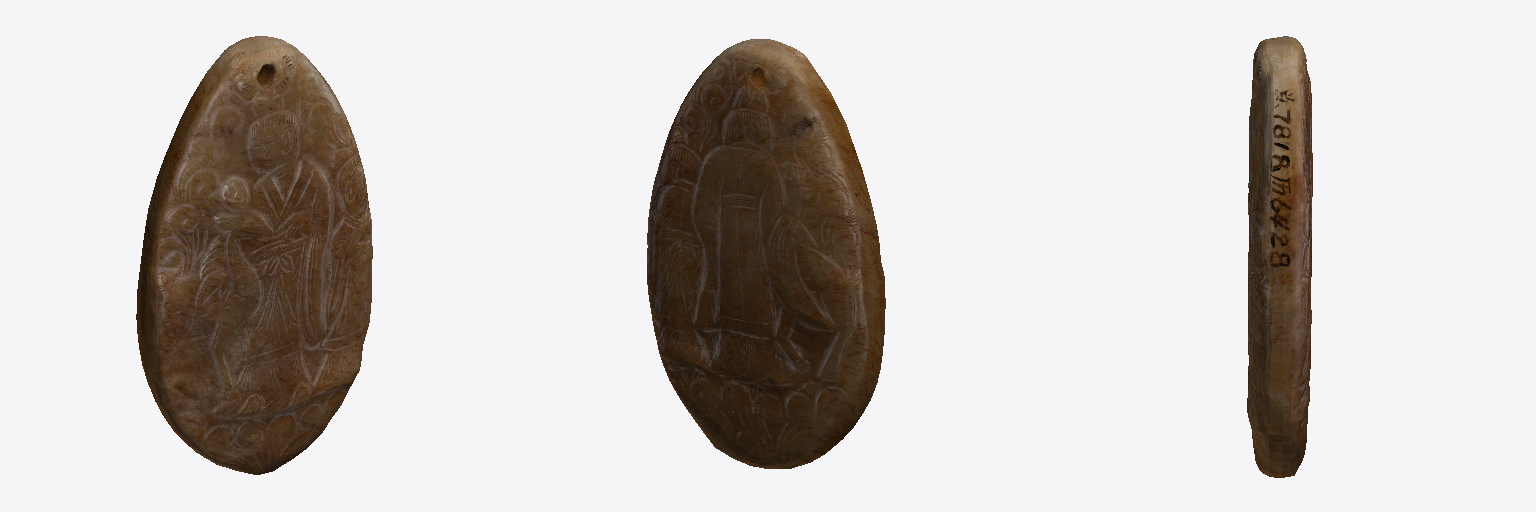
The picture shows the model from 3 angles: view 1: azimuth 30°, elevation 25°; view 2: azimuth 150°, elevation 25°; view 3: azimuth 270°, elevation 25°; orthographic projection.
Visible parts, largest first — view 1: Group1; view 2: Group1; view 3: Group1.
Boxes of the visible parts, x1=… form: Group1: x1=136, y1=36, x2=372, y2=474; Group1: x1=647, y1=39, x2=885, y2=468; Group1: x1=1247, y1=36, x2=1312, y2=477.
Size of the model in its own units: 0.426 by 0.7604 by 0.1066.
1 materials, 1 textured.